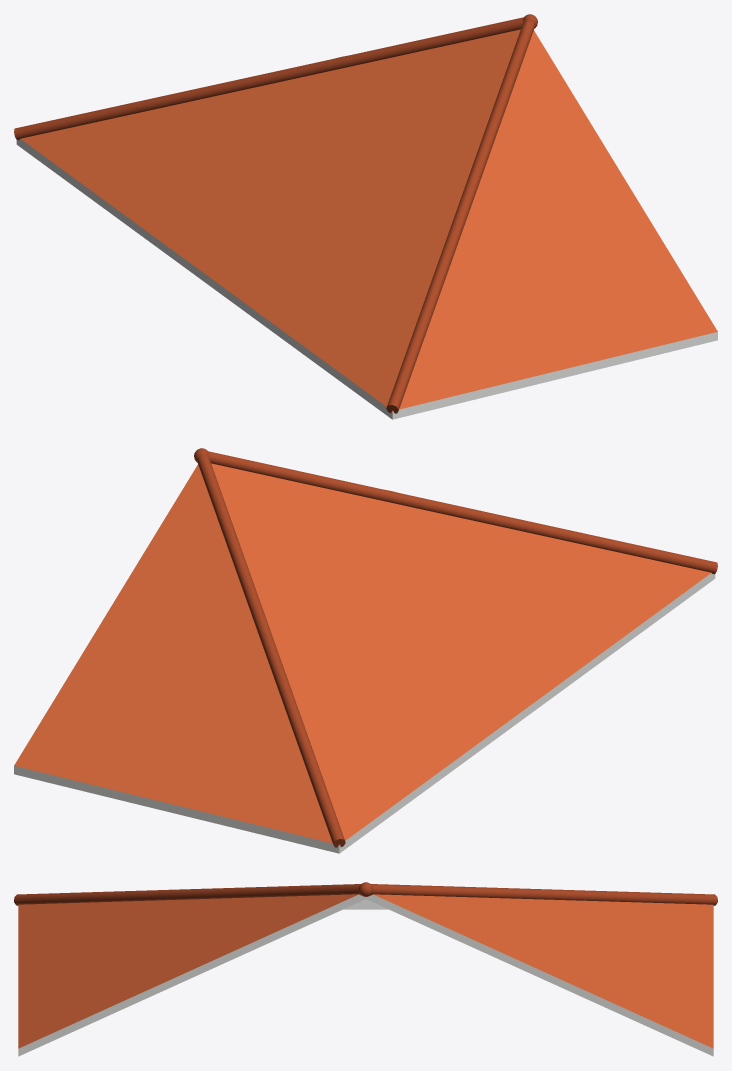
Rendered from telhado_quatro_aguas_ponta_v8_i50.glb.
The picture shows the model from 3 angles, top to bottom: view 1: azimuth 30°, elevation 25°; view 2: azimuth 150°, elevation 25°; view 3: azimuth 270°, elevation 25°; orthographic projection. The views are drawn at different scales.
Visible parts, largest first — view 1: telhado_quatro_aguas_ponta_v8_i50; view 2: telhado_quatro_aguas_ponta_v8_i50; view 3: telhado_quatro_aguas_ponta_v8_i50.
Boxes of the visible parts, x1,y1,x2,y2 form: telhado_quatro_aguas_ponta_v8_i50: (14,14,717,419); telhado_quatro_aguas_ponta_v8_i50: (14,448,717,853); telhado_quatro_aguas_ponta_v8_i50: (14,882,717,1056).
Size of the model in its own units: 4.13 by 2.21 by 8.1.
